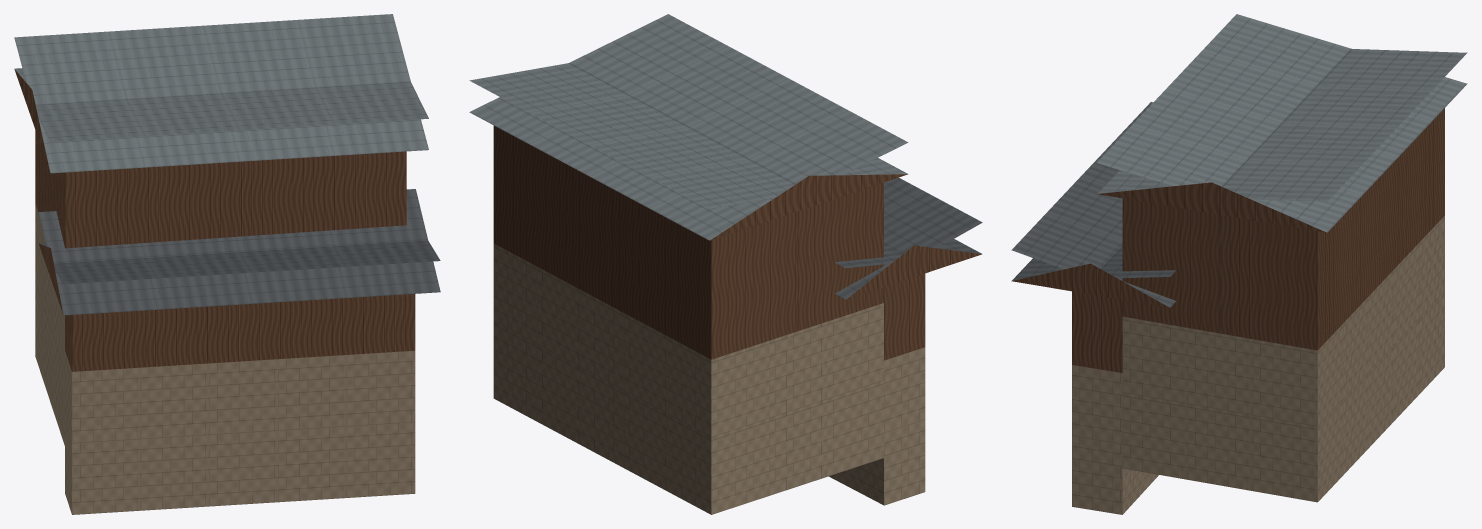
The model's file is bld_c9_9_493.gltf.
3 views of the same model, side by side, from view 1: azimuth 30°, elevation 25°; view 2: azimuth 150°, elevation 25°; view 3: azimuth 270°, elevation 25° (orthographic). The views are drawn at different scales.
Visible parts, largest first — view 1: bld_c9_9_493; view 2: bld_c9_9_493; view 3: bld_c9_9_493.
Part boxes in pixels (left/top/right/bottom): bld_c9_9_493: left=14, top=14, right=440, bottom=514; bld_c9_9_493: left=469, top=14, right=982, bottom=514; bld_c9_9_493: left=1011, top=14, right=1467, bottom=514.
Bounding box in the file's own units: 14 × 11.5 × 13.34.
5 materials, 5 textured.
